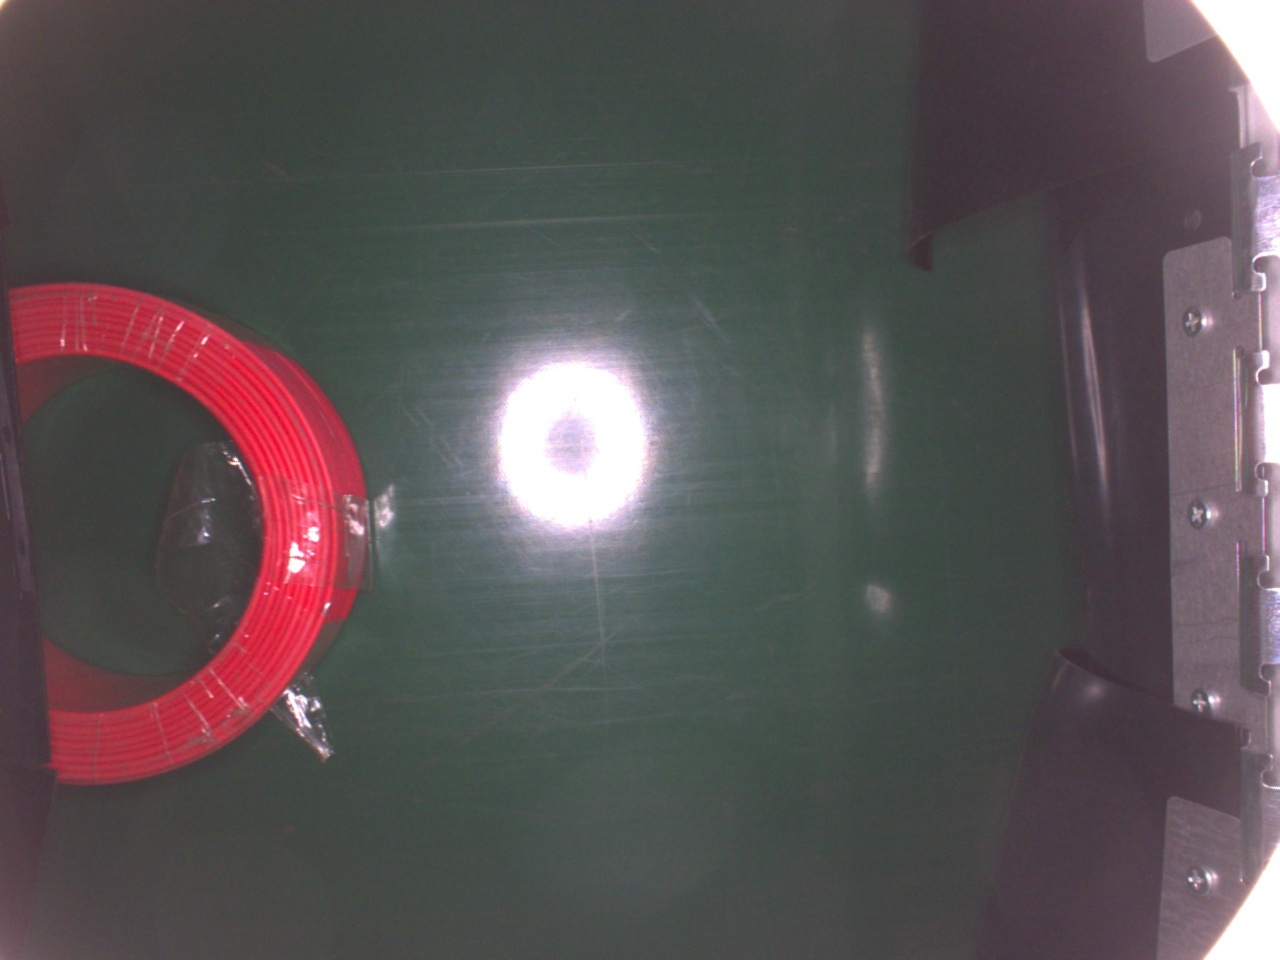red: (6, 276, 366, 792)
